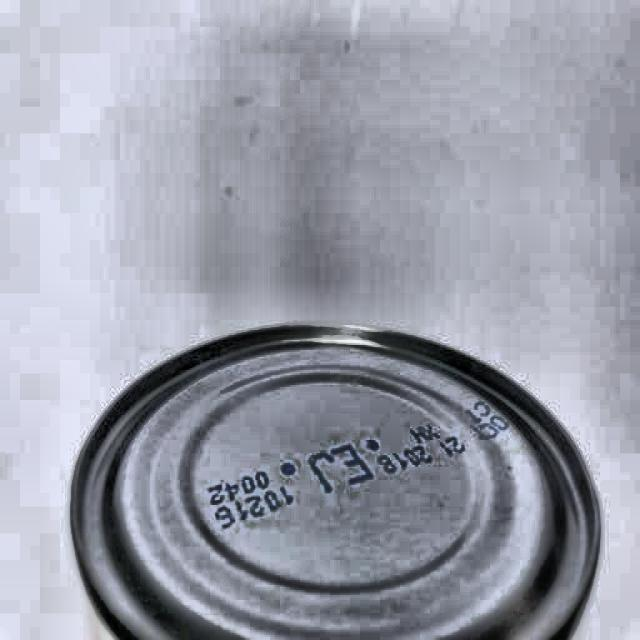metal: (65, 321, 596, 640)
